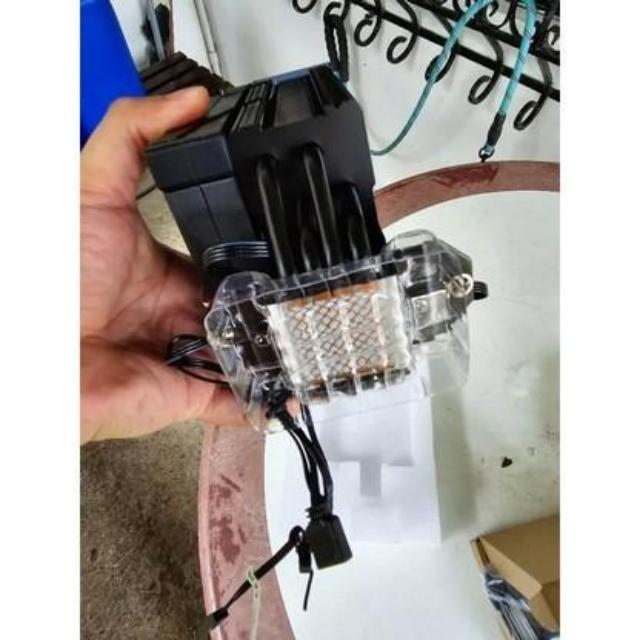CPU_Fan: (140, 57, 423, 409)
